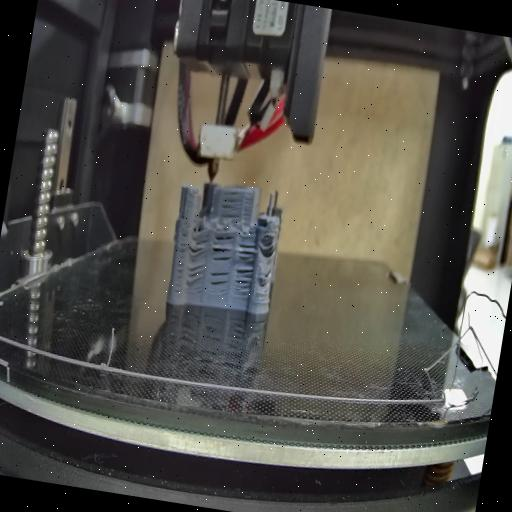cracks: (170, 231, 190, 296), (218, 185, 246, 220), (210, 232, 236, 262), (206, 268, 232, 298), (232, 266, 255, 298), (236, 238, 258, 263), (185, 261, 206, 287), (187, 234, 209, 257), (262, 238, 277, 256), (260, 264, 272, 282), (179, 210, 187, 222)
